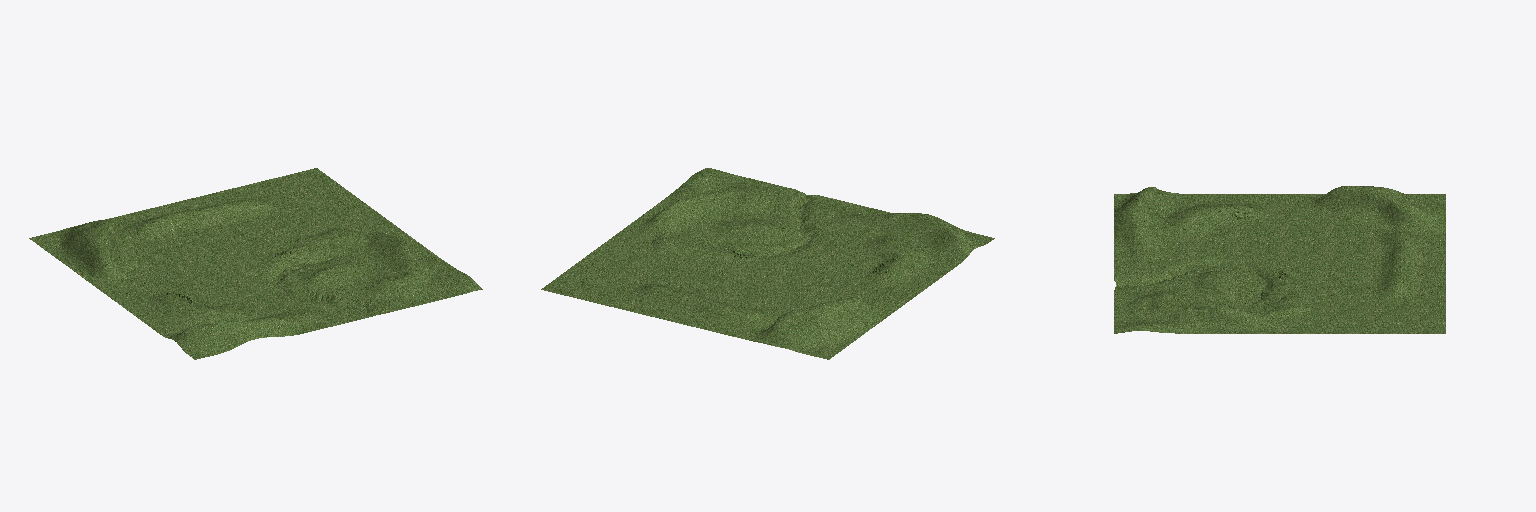
3 renders of one model, left to right at view 1: azimuth 30°, elevation 25°; view 2: azimuth 150°, elevation 25°; view 3: azimuth 270°, elevation 25°, orthographic.
Visible parts, largest first — view 1: Plane; view 2: Plane; view 3: Plane.
Boxes of the visible parts, x1=… form: Plane: x1=29, y1=168, x2=482, y2=359; Plane: x1=541, y1=168, x2=994, y2=359; Plane: x1=1114, y1=186, x2=1445, y2=333.
Size of the model in its own units: 500 by 48.72 by 500.
Materials: 7 (2 with a texture image).